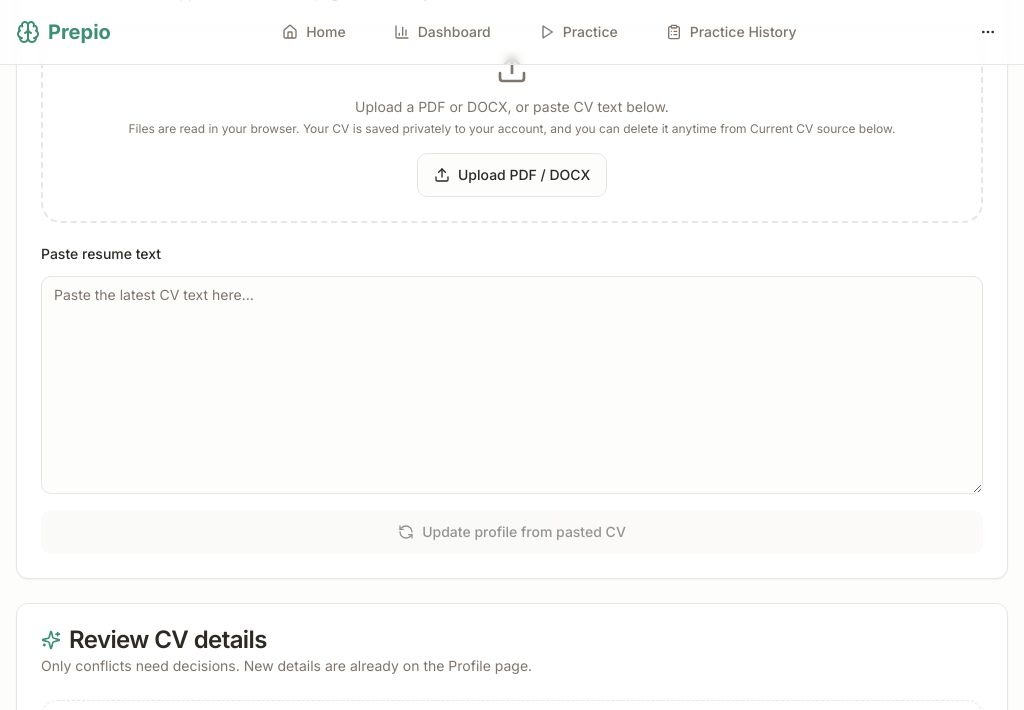
Test: Profile page › shows an error when CV import analysis fails after saving the CV
(page scrolled)
Type "Imported resume text" into the text box labelled "Paste resume text" at (512,385), box [41,276,983,494]
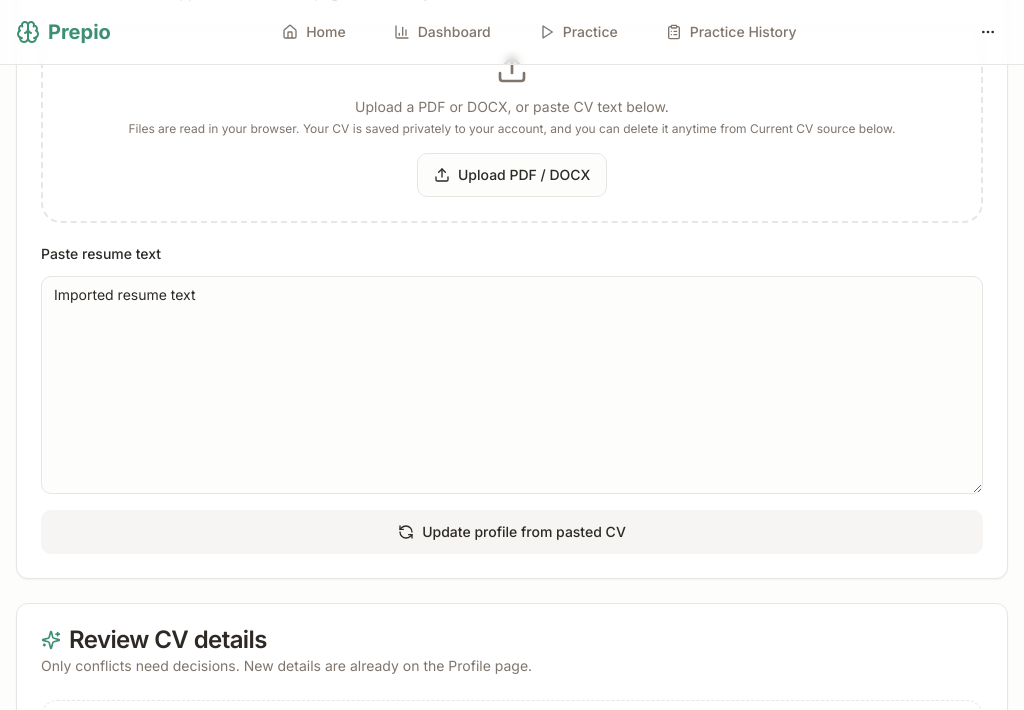
Click the button "Update profile from pasted CV" at (512,532), box [41,510,983,554]
(page scrolled)
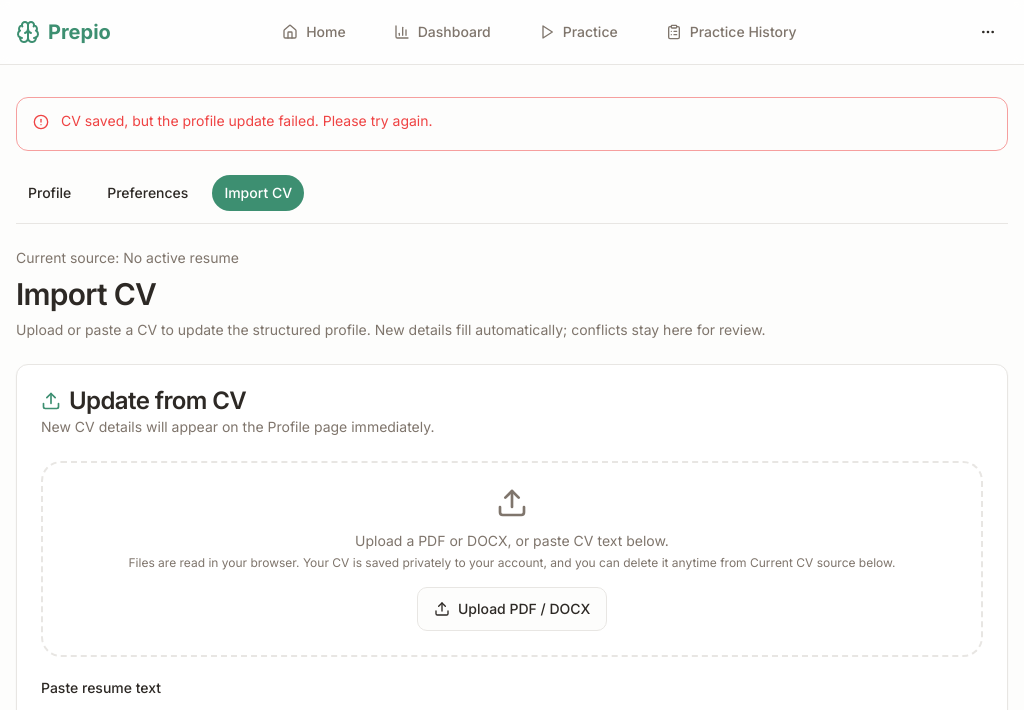
Check: the text "CV saved, but the profile update failed. Please try again." is shown, box [61,112,433,129]
